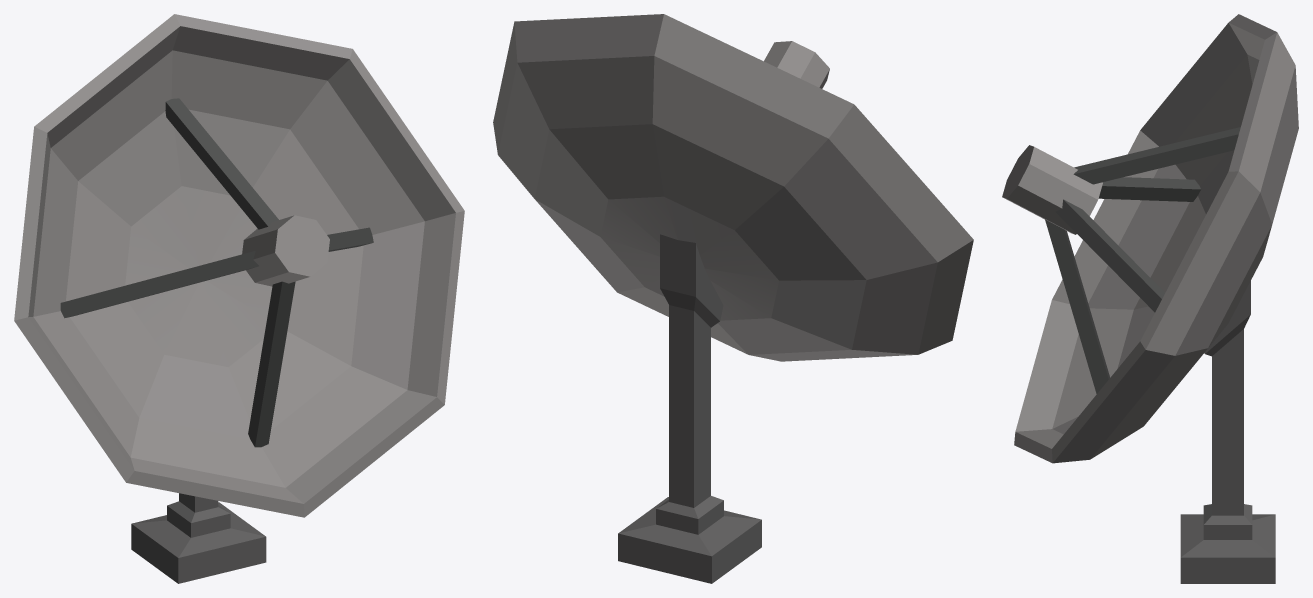
File: SM_Prop_SatelliteDish_01.obj
The picture shows the model from 3 angles, left to right: view 1: azimuth 30°, elevation 25°; view 2: azimuth 150°, elevation 25°; view 3: azimuth 270°, elevation 25°; orthographic projection. The views are drawn at different scales.
Visible parts, largest first — view 1: SM_Prop_SatelliteDish_01_0; view 2: SM_Prop_SatelliteDish_01_0; view 3: SM_Prop_SatelliteDish_01_0.
Boxes of the visible parts, x1,y1,x2,y2 form: SM_Prop_SatelliteDish_01_0: [14, 14, 464, 583]; SM_Prop_SatelliteDish_01_0: [493, 14, 973, 583]; SM_Prop_SatelliteDish_01_0: [1002, 14, 1298, 583].
Bounding box in the file's own units: 1.21 × 1.34 × 0.6823.
1 material, 1 textured.
